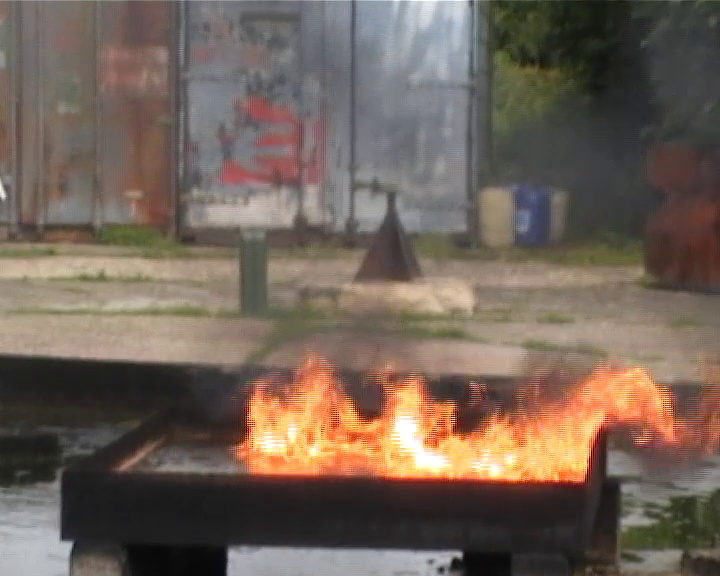fire: (244, 354, 662, 479)
